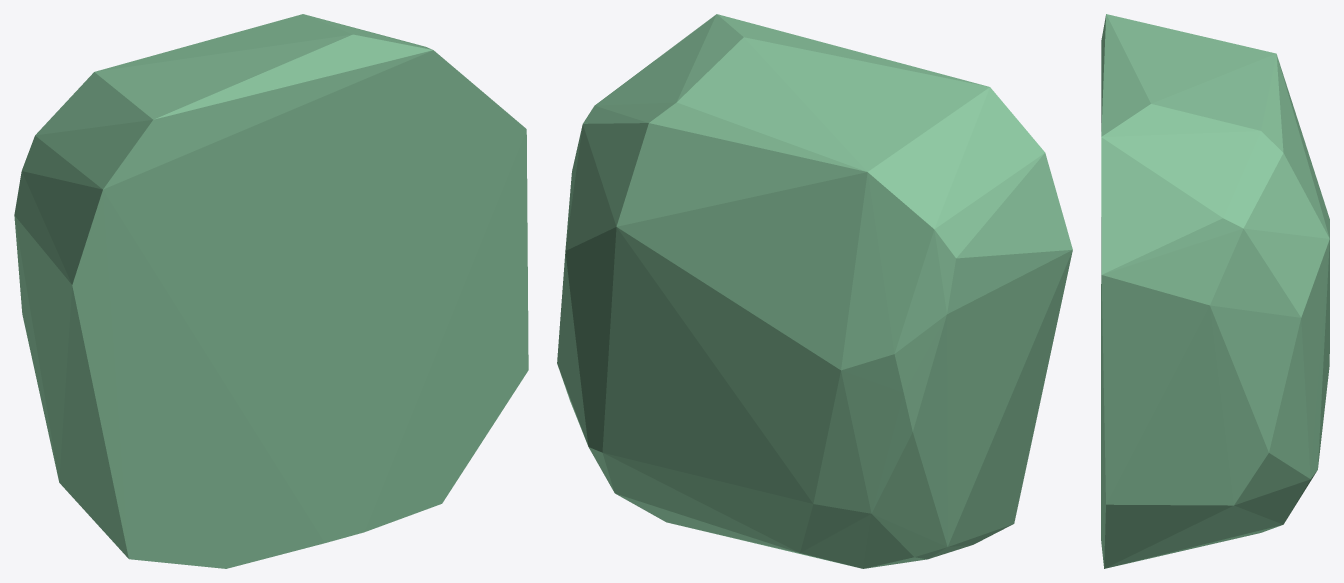
Rendered from dishware_plastic_smallPlate_a01.glb.
The picture shows the model from 3 angles, left to right: view 1: azimuth 30°, elevation 25°; view 2: azimuth 150°, elevation 25°; view 3: azimuth 270°, elevation 25°; orthographic projection. The views are drawn at different scales.
Visible parts, largest first — view 1: geometry_0; view 2: geometry_0; view 3: geometry_0.
Boxes of the visible parts, box(x1,y1,x2,y2) form: geometry_0: box(14, 14, 528, 568); geometry_0: box(557, 14, 1072, 568); geometry_0: box(1101, 14, 1329, 568).
Bounding box in the file's own units: 0.4746 × 0.4748 × 0.22.
